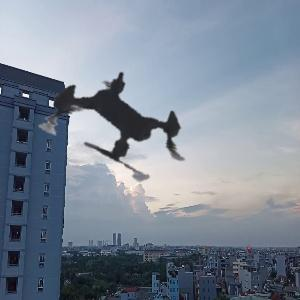drone: (11, 10, 236, 235)
